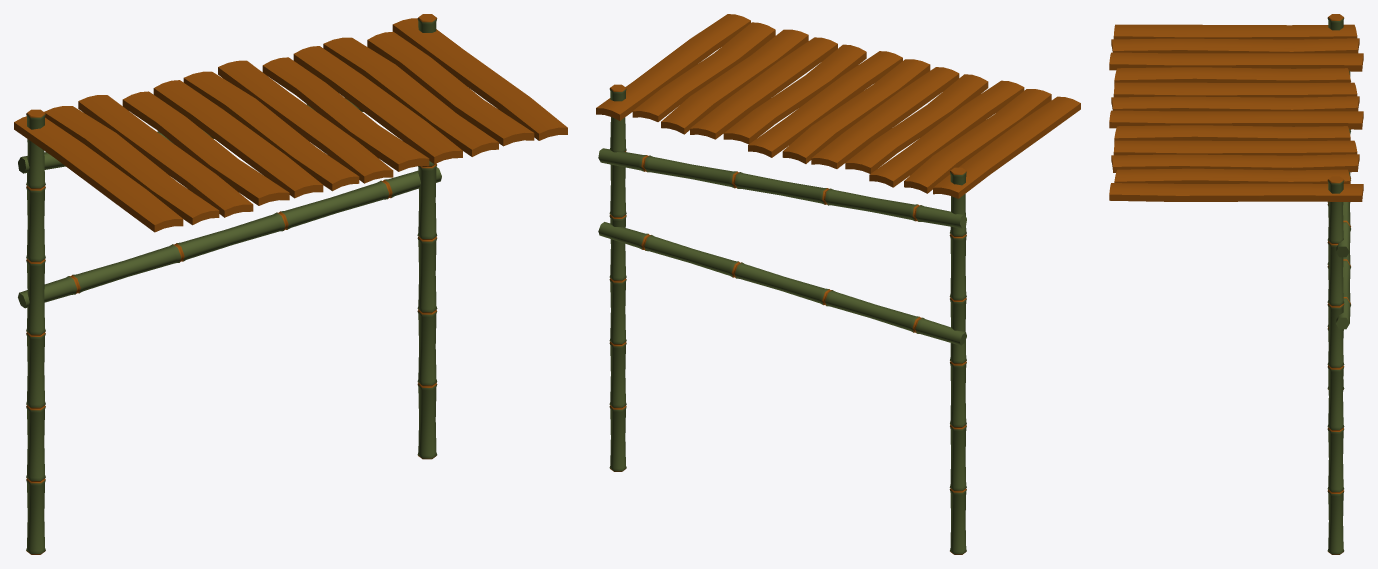
File: Jungle_Platform_01.fbx
3 views of the same model, side by side, from view 1: azimuth 30°, elevation 25°; view 2: azimuth 150°, elevation 25°; view 3: azimuth 270°, elevation 25° (orthographic). The views are drawn at different scales.
Parts seen in each view (by area): view 1: Jungle_Platform_01; view 2: Jungle_Platform_01; view 3: Jungle_Platform_01.
Boxes of the visible parts, <box> form: Jungle_Platform_01: <box>14,14,567,554</box>; Jungle_Platform_01: <box>596,14,1080,554</box>; Jungle_Platform_01: <box>1109,14,1363,554</box>.
Size of the model in its own units: 5.98 by 6 by 3.71.
